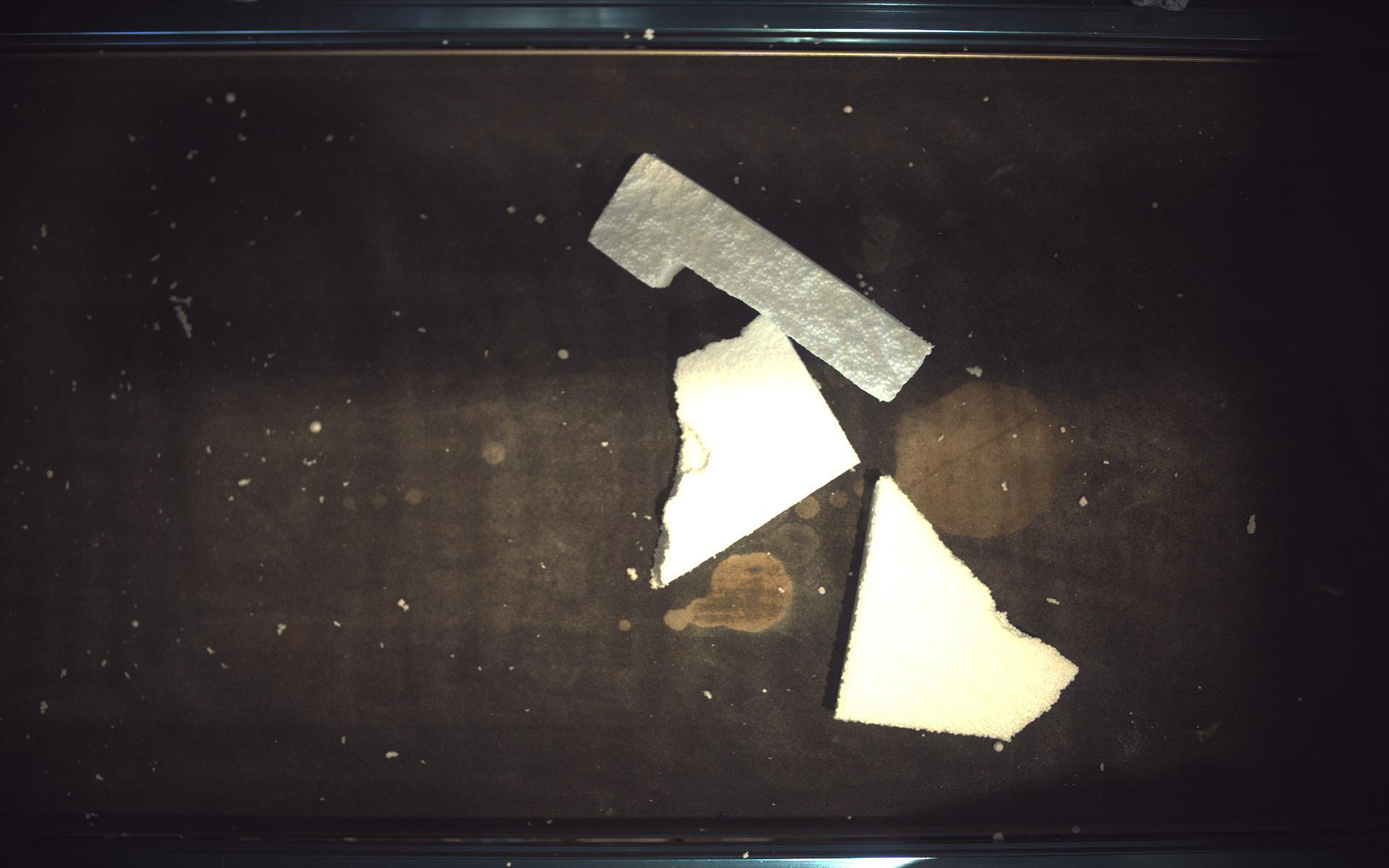foam: (590, 153, 933, 401), (836, 476, 1080, 741), (653, 316, 860, 587)
